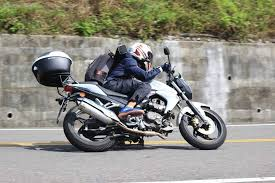helmet: (129, 40, 155, 65)
